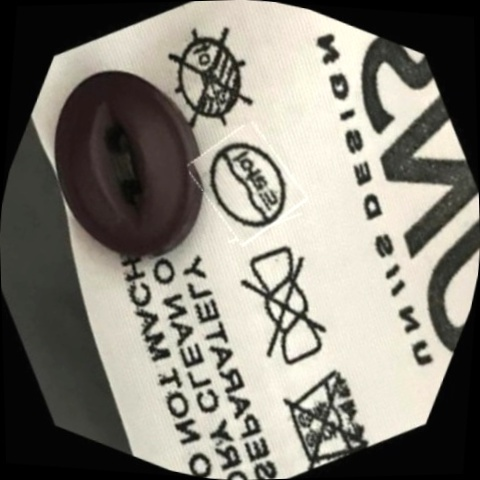DN_dry: (143, 11, 277, 146)
DN_wring: (209, 233, 359, 383)
dry_clean: (186, 123, 307, 246)
hand_wash: (262, 346, 391, 479)
